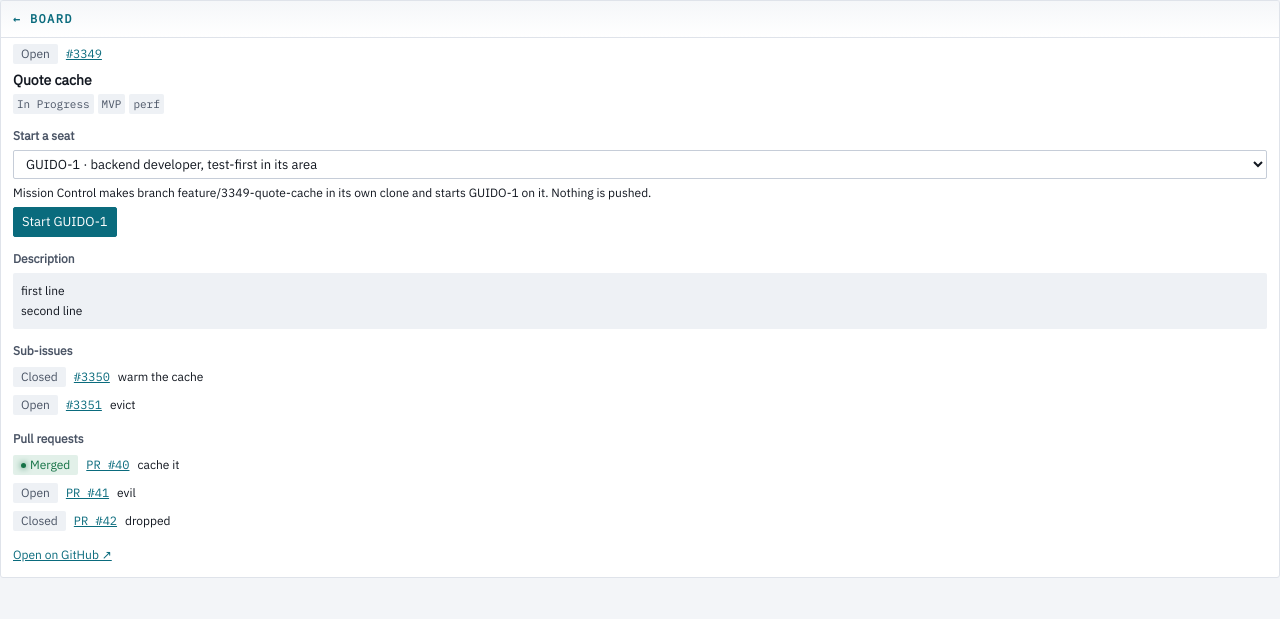
Scenario: Start a seat › shows the server's refusal inline and stays on the ticket
Step 1. Click the button "Start GUIDO-1" → (65, 222), box left=13, top=207, right=117, bottom=237
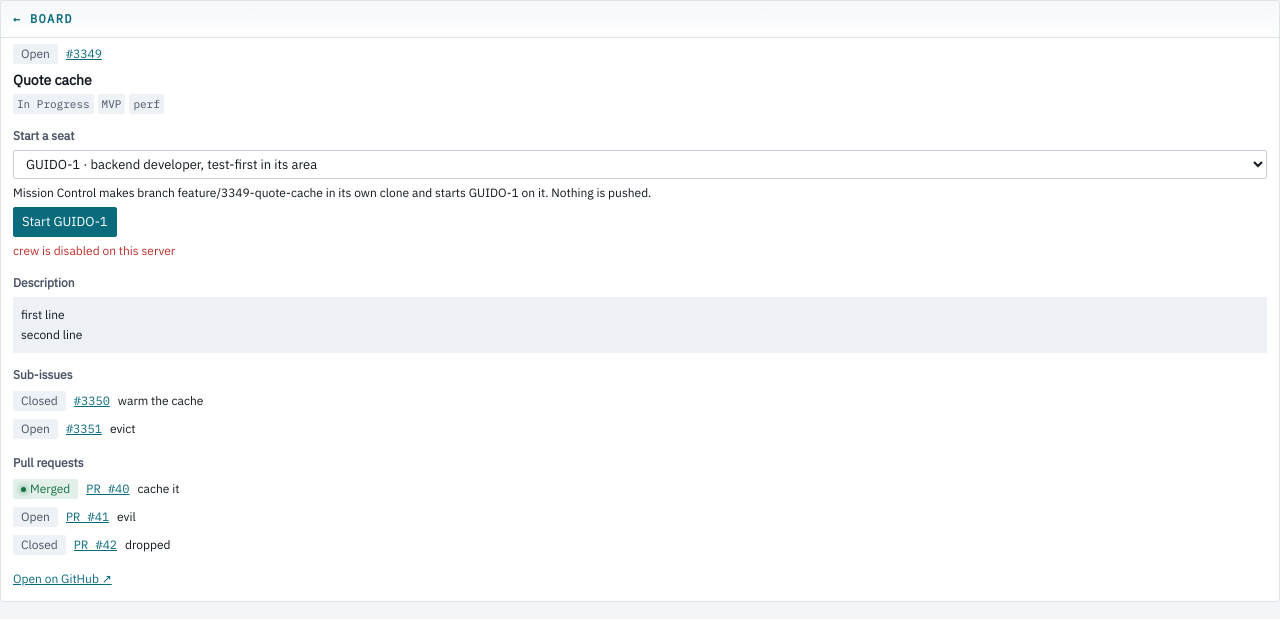
Now the message reads "crew is disabled on this server", box left=13, top=243, right=175, bottom=258
